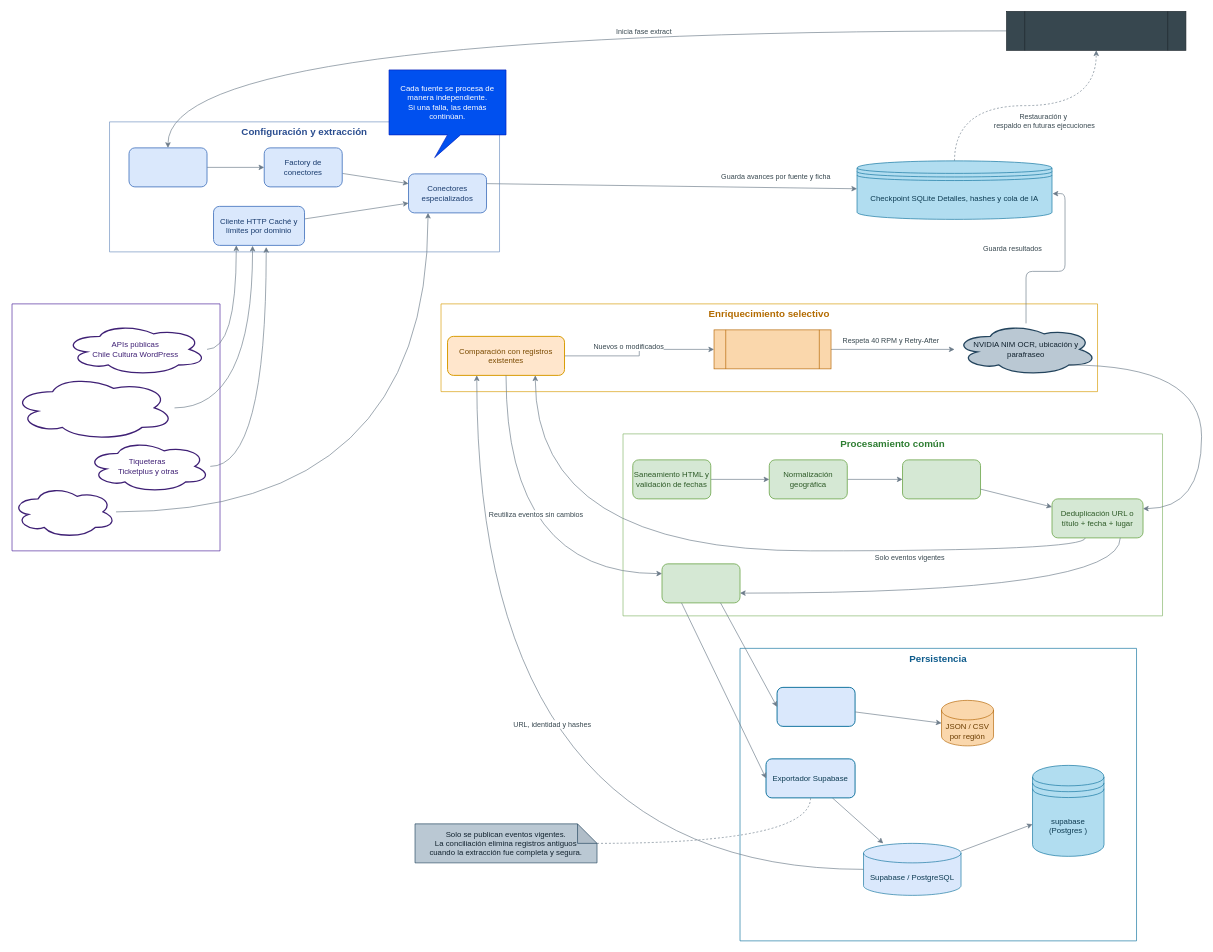
Image size: 1213x952. Some labels were removed from this diagram. The centre of each missing label's shape, as x and y in pixels:
"Archivos JSON de fuentes" belongs at point 167,167.
"Carteleras HTML Municipios y centros culturales" belongs at point 93,407.
"Cola pendiente\nde OCR e IA" belongs at point 772,349.
"Exportador local" belongs at point 815,707.
"Filtro cultural global" belongs at point 941,479.
"GitHub Actions Ejecución manual o periódica" belongs at point 1096,30.
"Páginas dinámicas Playwright" belongs at point 63,511.
"Validación de URLs y disponibilidad" belongs at point 700,583.
